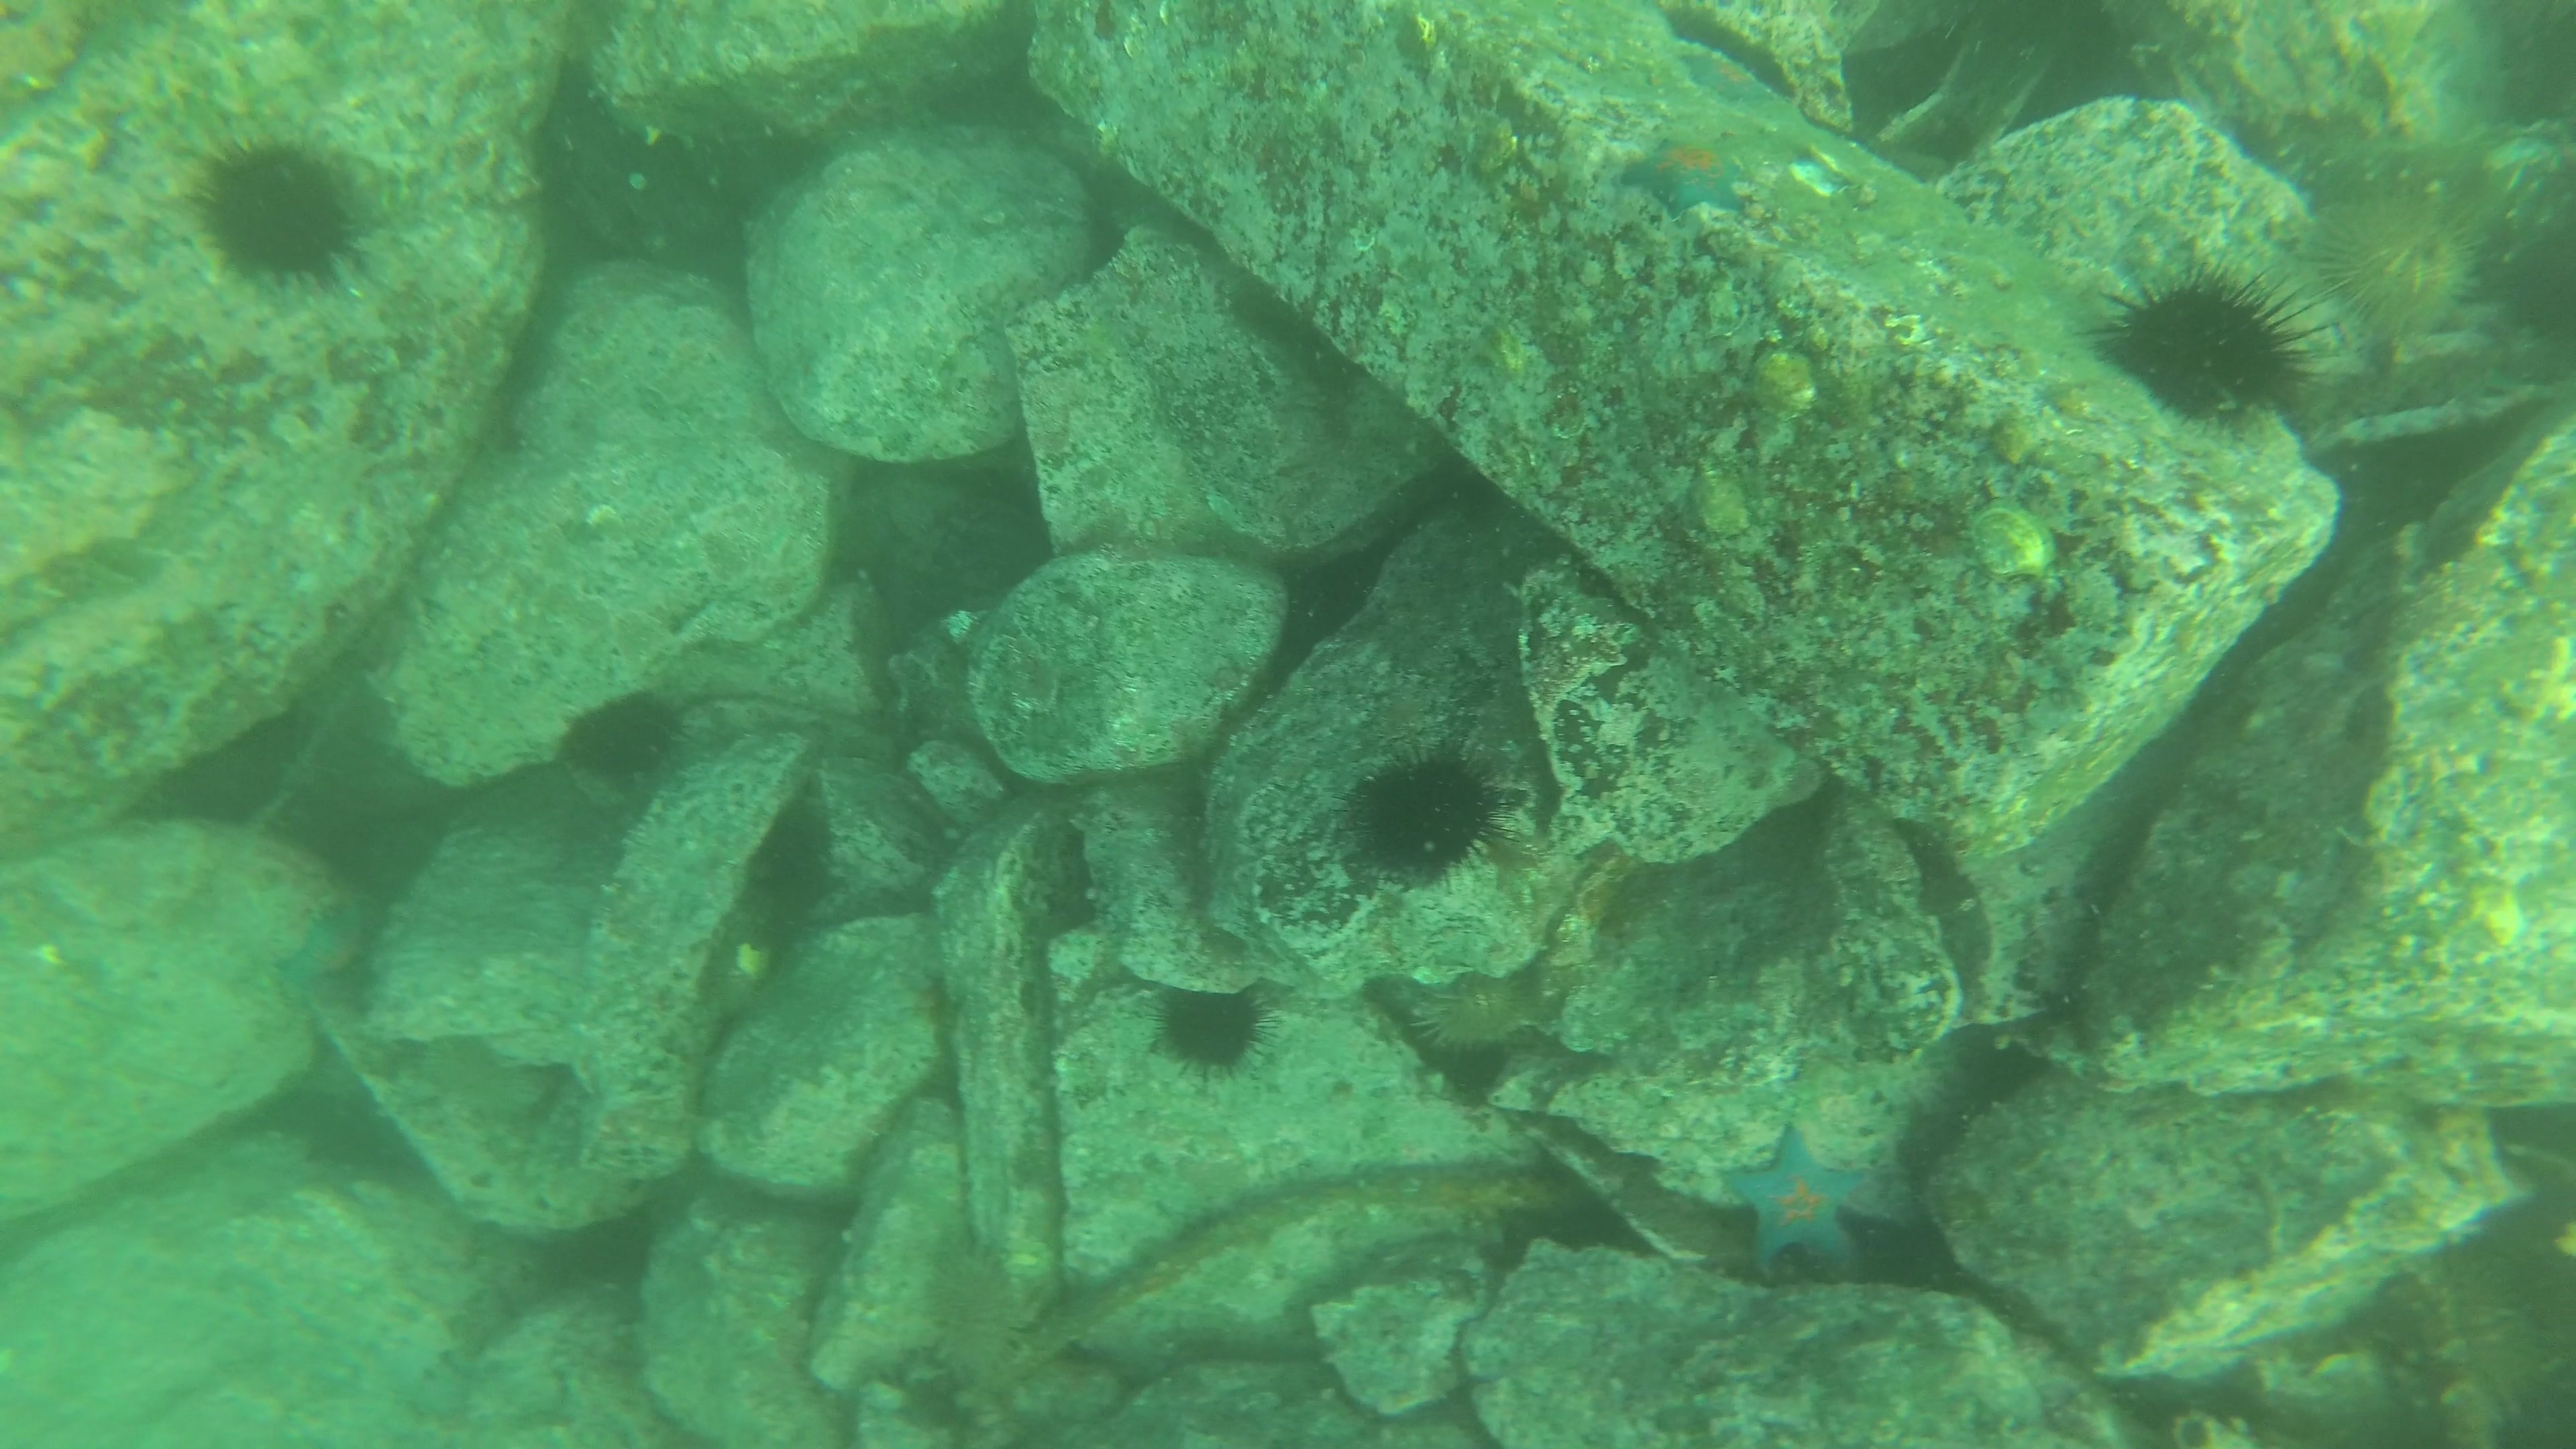echinus: (2093, 258, 2323, 426), (188, 131, 372, 292), (2305, 186, 2482, 341), (1341, 741, 1513, 885), (904, 1251, 1046, 1376), (557, 683, 694, 789), (1146, 975, 1277, 1079), (1408, 955, 1552, 1047), (2484, 216, 2574, 359)
scallop: (1960, 490, 2065, 593)
starfish: (1716, 1115, 1881, 1283), (267, 895, 372, 1040), (1614, 122, 1759, 223), (1681, 42, 1771, 111)
